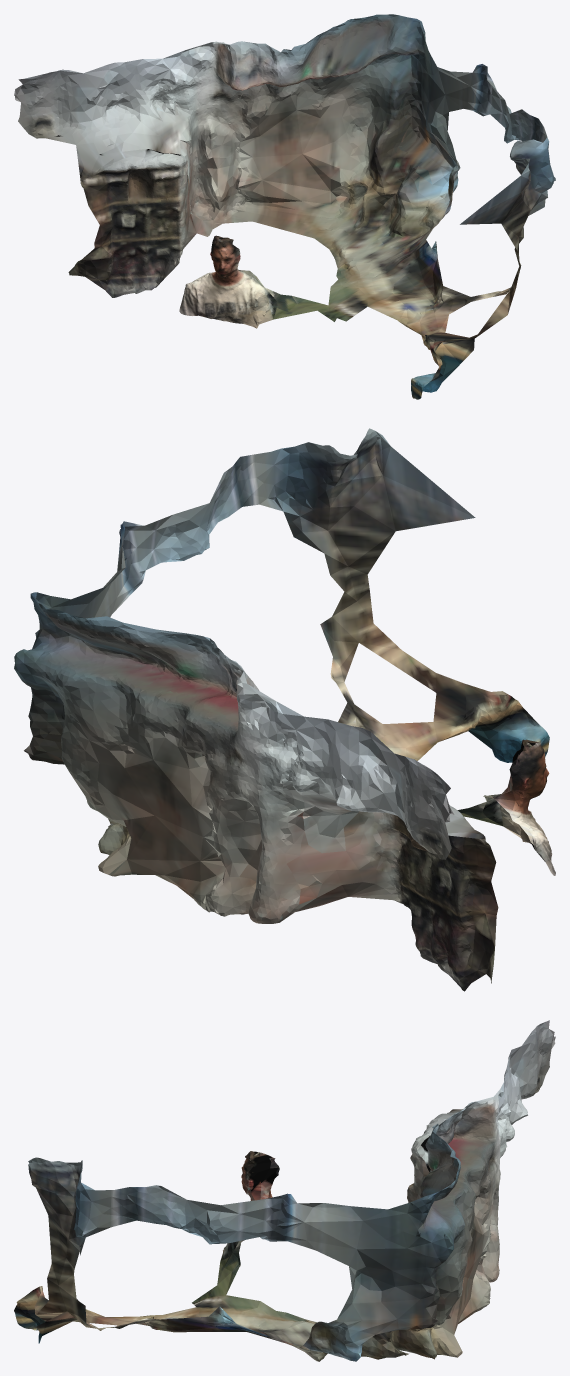
The model's file is texturedMesh.obj.
3 renders of one model, top to bottom at view 1: azimuth 30°, elevation 25°; view 2: azimuth 150°, elevation 25°; view 3: azimuth 270°, elevation 25°, orthographic. The views are drawn at different scales.
Size of the model in its own units: 4.53 by 2.58 by 5.28.
Materials: 1 (1 with a texture image).
